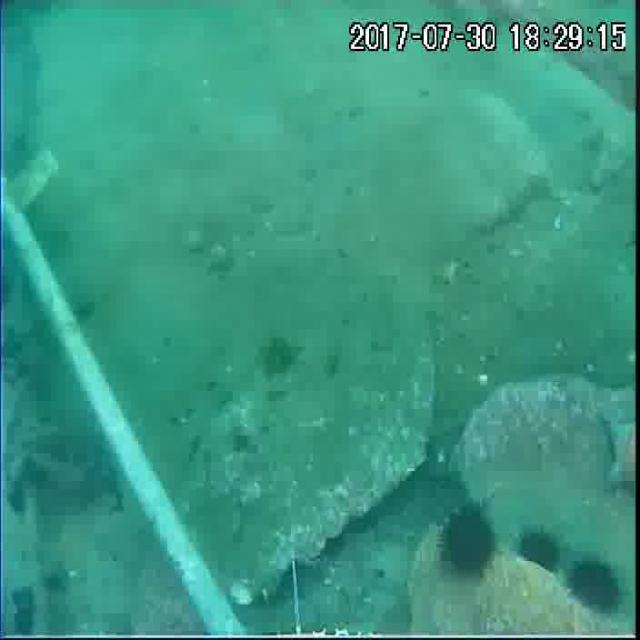echinus: (439, 510, 496, 571), (568, 553, 621, 617), (518, 528, 566, 576)
